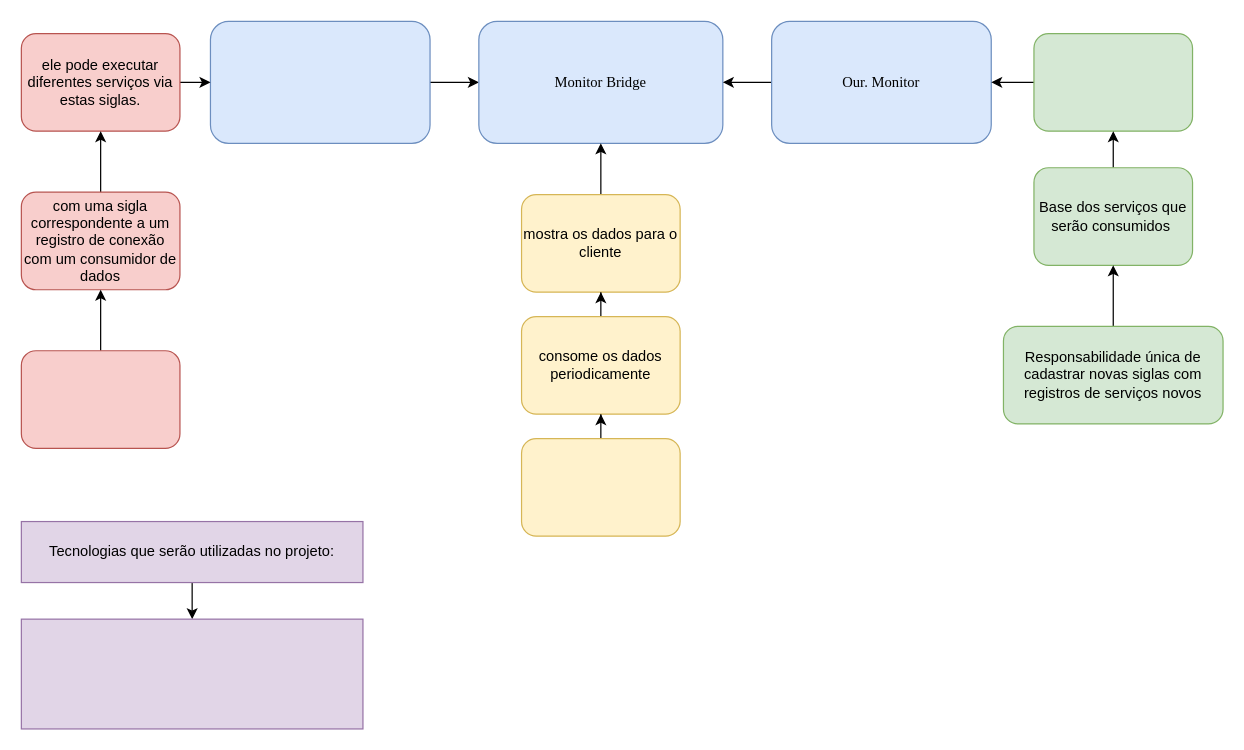
Image size: 1244x750. Some labels were removed from this diagram. Each missing label, with the box of its shape:
API que consome os diferentes dados: (1033, 32, 1193, 131)
Cliente envia uma requisição para o monitor.: (20, 350, 180, 448)
executa serviços conforme a sigla informada: (520, 437, 680, 536)
Monitor Cliente: (209, 20, 430, 143)
